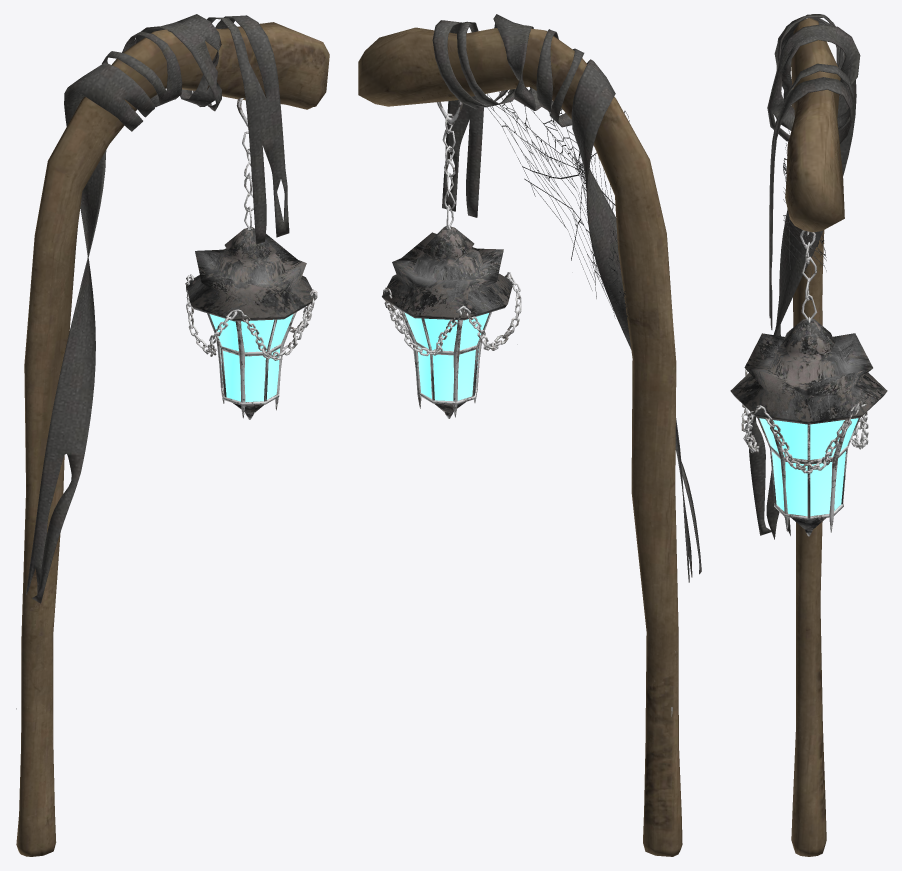
File: Unity2Skfb.gltf
3 renders of one model, left to right at view 1: azimuth 30°, elevation 25°; view 2: azimuth 150°, elevation 25°; view 3: azimuth 270°, elevation 25°, orthographic. The views are drawn at different scales.
Parts seen in each view (by area): view 1: lantern; view 2: lantern, spider web; view 3: lantern, spider web.
Part boxes in pixels (left/top/right/bottom): lantern: left=16, top=14, right=329, bottom=856; lantern: left=358, top=14, right=701, bottom=856; spider web: left=487, top=87, right=629, bottom=318; lantern: left=730, top=14, right=887, bottom=856; spider web: left=783, top=104, right=826, bottom=275.
Bounding box in the file's own units: 3.63 × 8.65 × 1.37.
2 materials, 2 textured.
